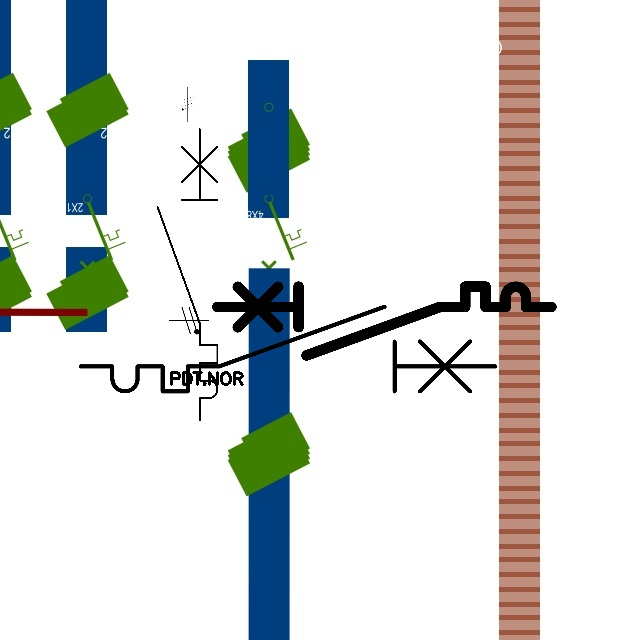interruptor_termomagnetico: (70, 296, 505, 402), (208, 278, 559, 364), (150, 121, 225, 427)
